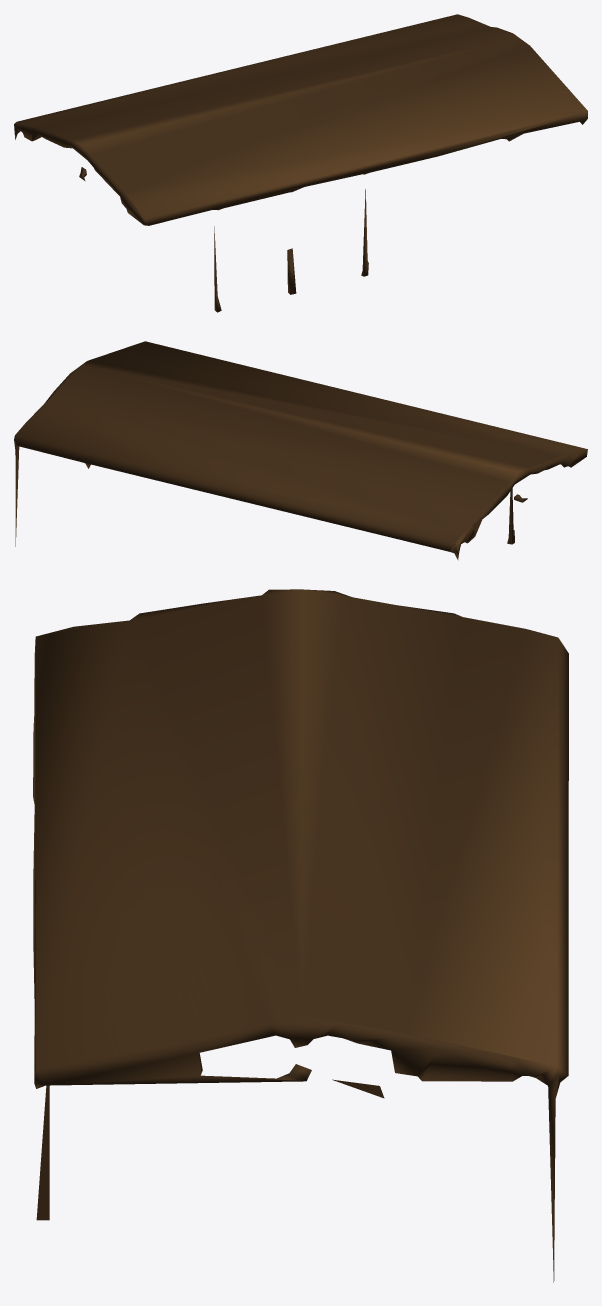
Rendered from Pergolas and open houses(1).glb.
3 views of the same model, one above another, from view 1: azimuth 30°, elevation 25°; view 2: azimuth 150°, elevation 25°; view 3: azimuth 270°, elevation 25° (orthographic). The views are drawn at different scales.
Parts seen in each view (by area): view 1: Root.001; view 2: Root.001; view 3: Root.001, Root.005.
Boxes of the visible parts, x1,y1,x2,y2 form: Root.001: (14, 14, 587, 225); Root.001: (14, 341, 587, 560); Root.001: (33, 589, 568, 1282); Root.005: (36, 1085, 49, 1220).
Bounding box in the file's own units: 14.1 × 4.15 × 7.37.
